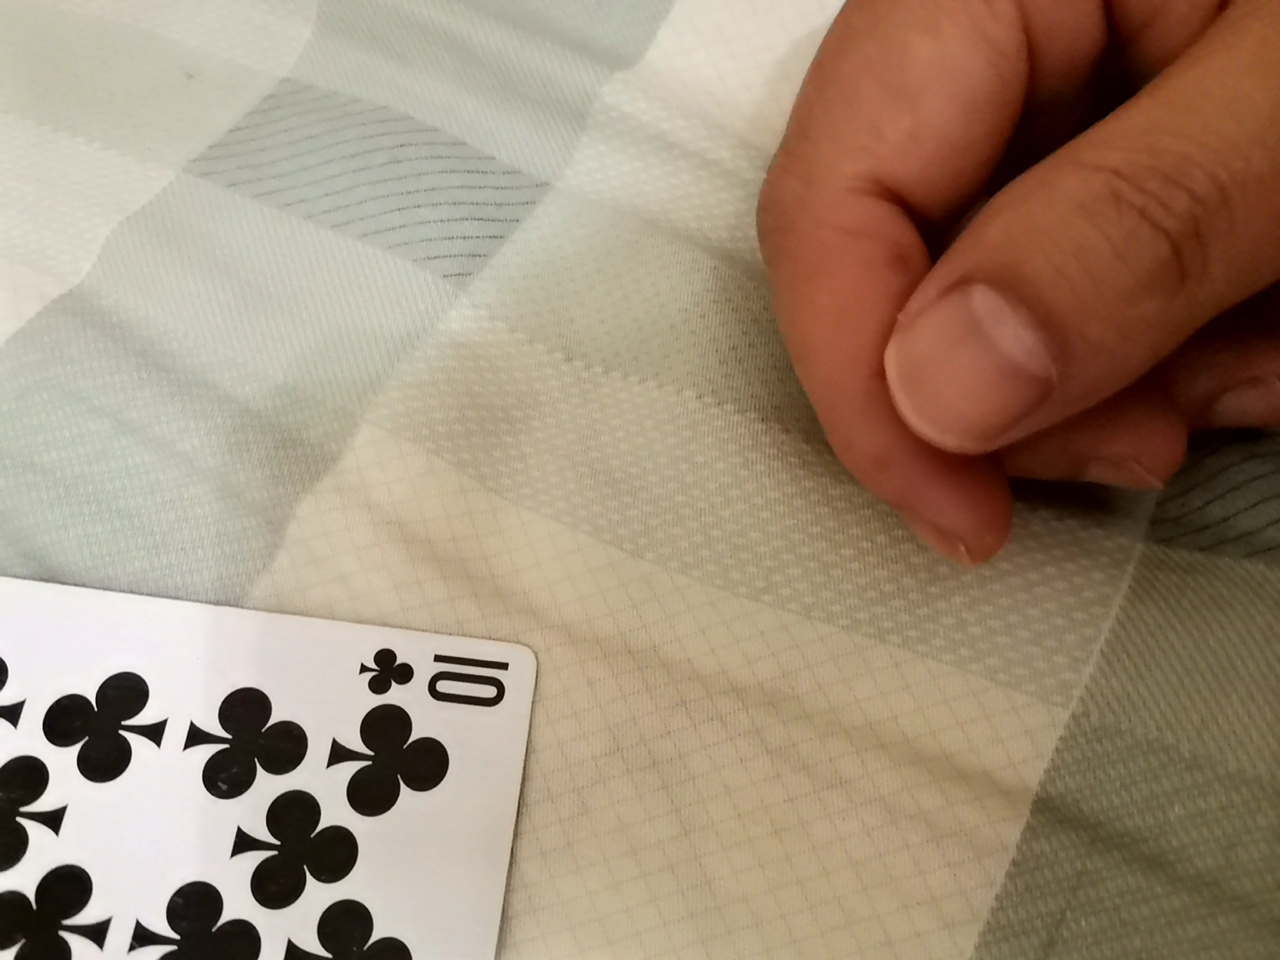mh 10: (13, 557, 547, 957)
